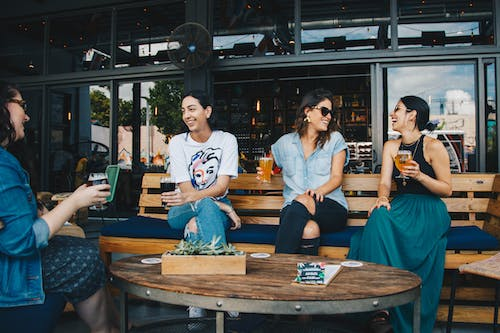alcohol: (87, 171, 110, 211), (393, 149, 412, 180), (159, 174, 176, 208), (256, 156, 274, 184)
